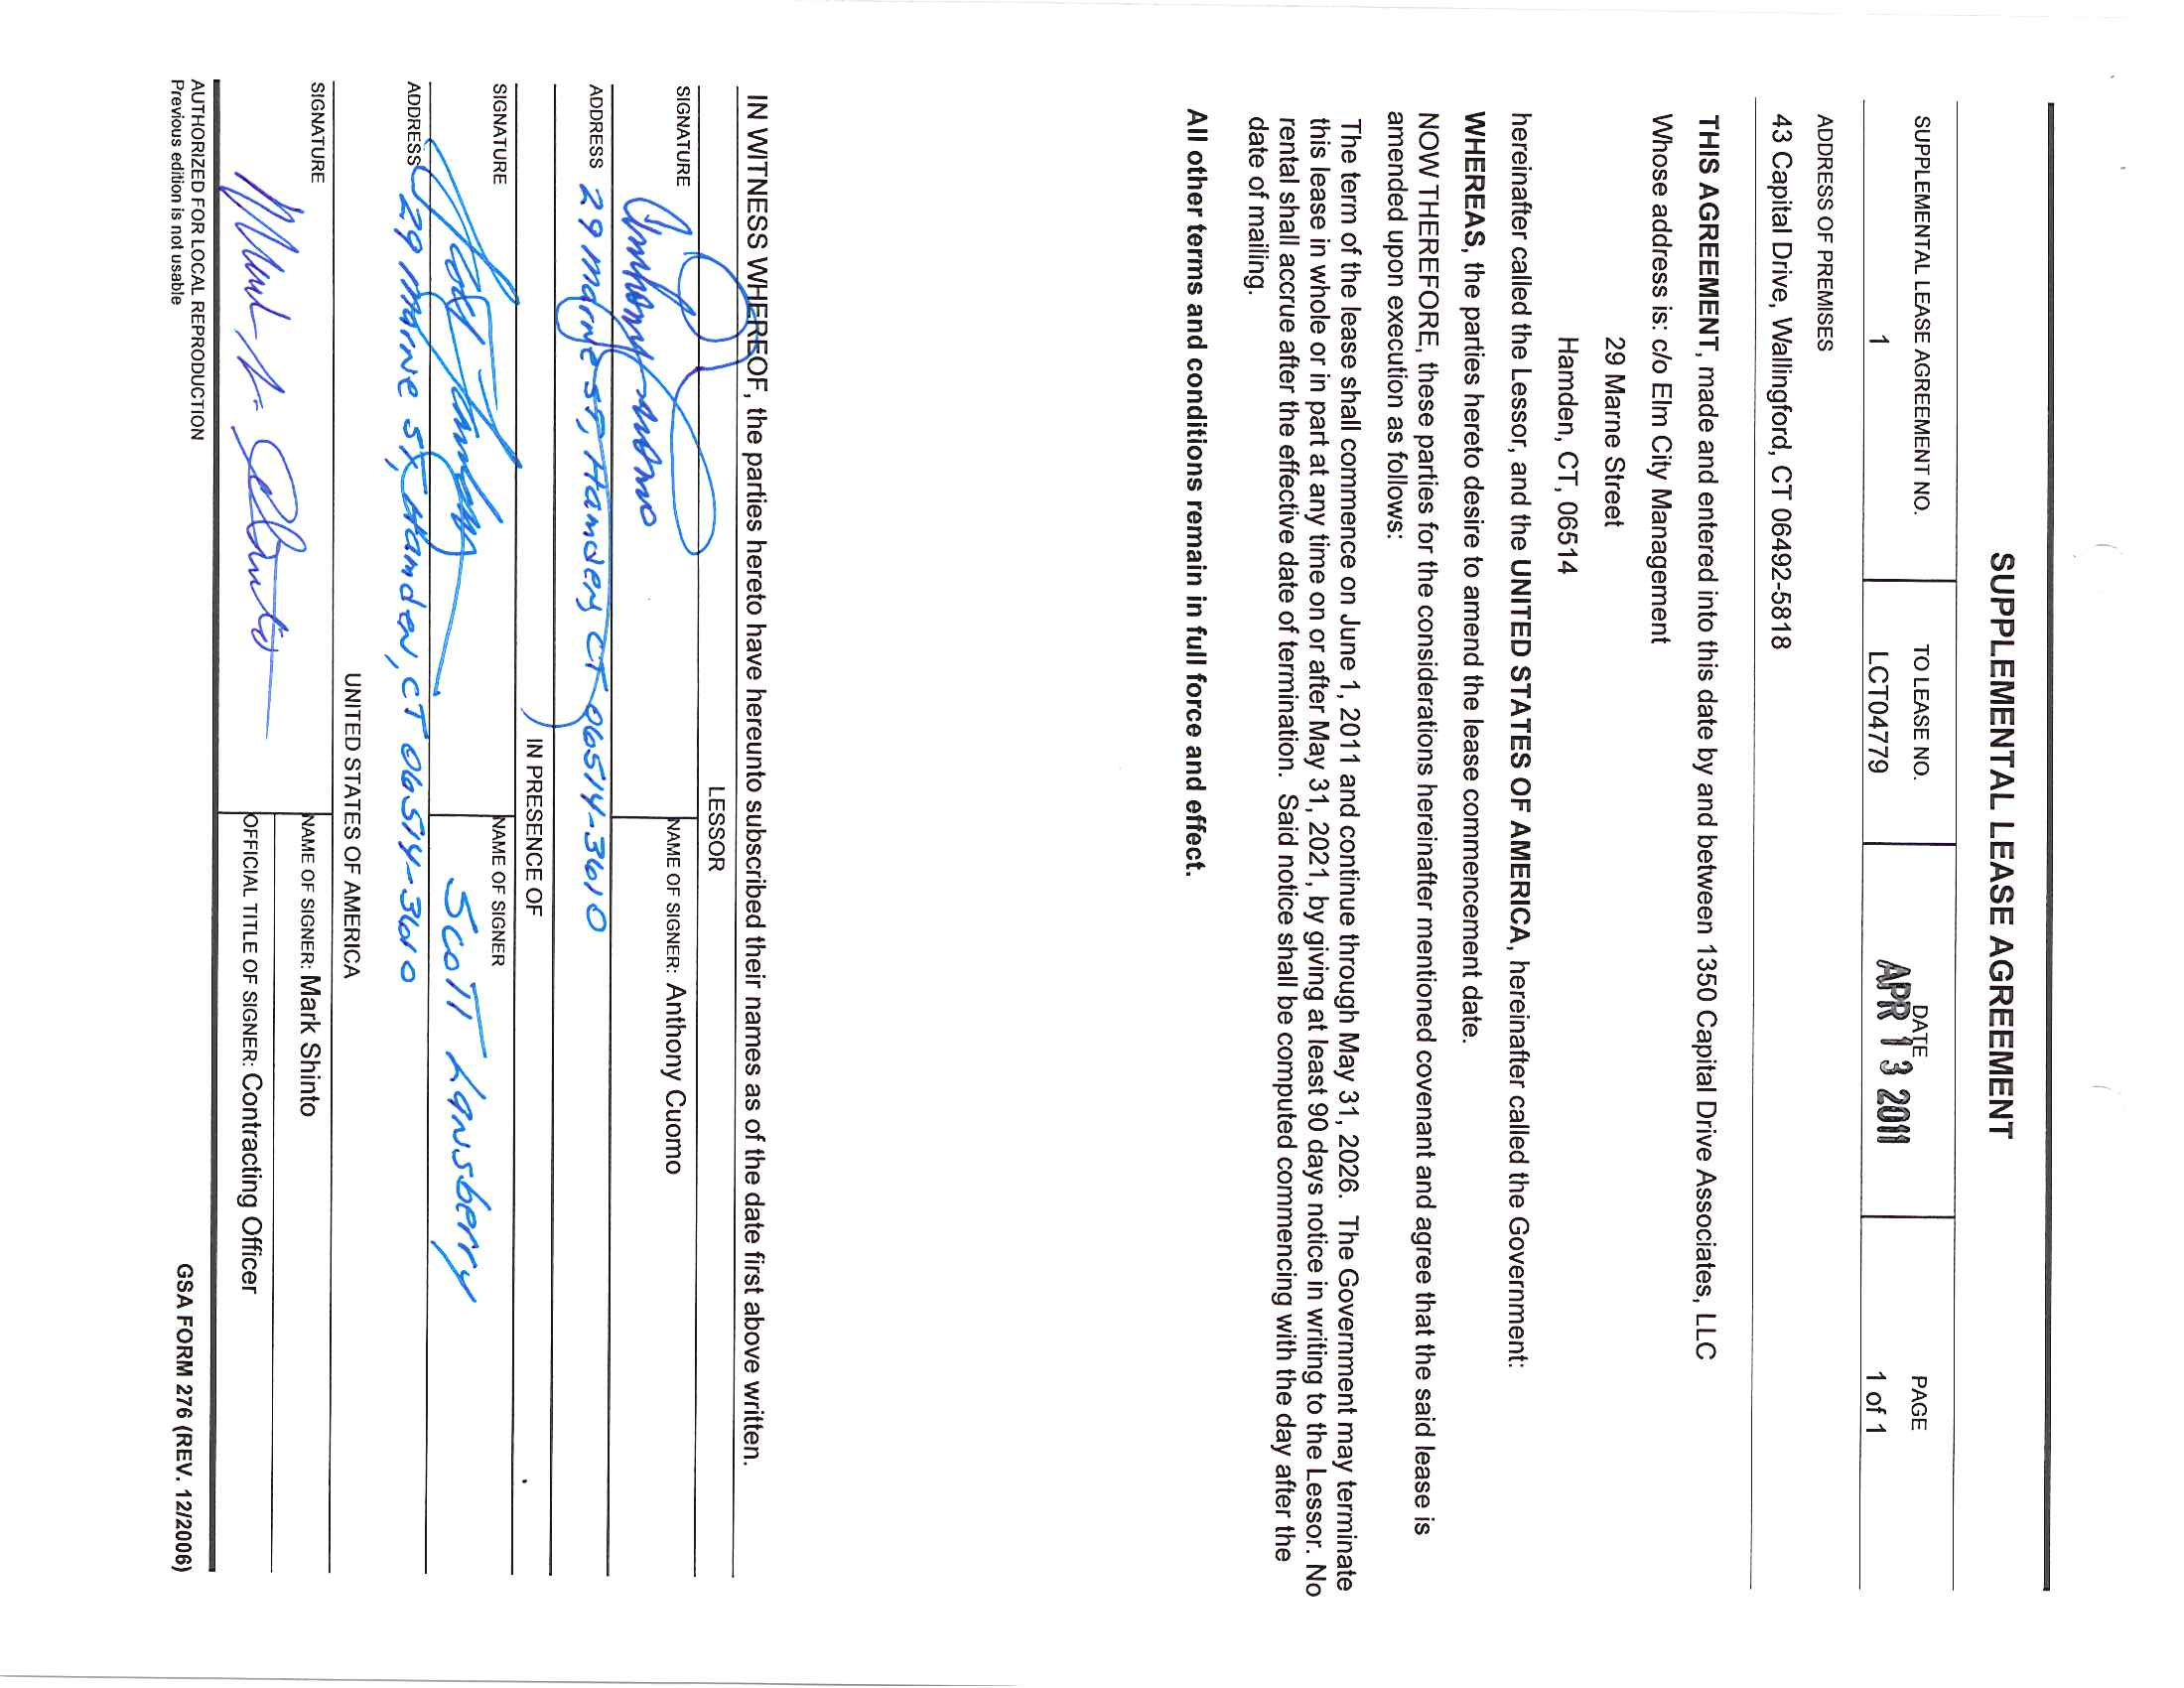handwritten: (213, 151, 314, 745), (413, 129, 503, 697), (372, 184, 424, 986), (617, 191, 716, 560), (565, 176, 612, 943), (427, 849, 489, 1301)
